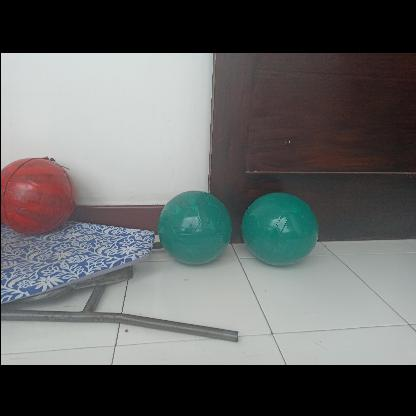green_ball: (156, 187, 233, 264), (242, 188, 318, 265)
